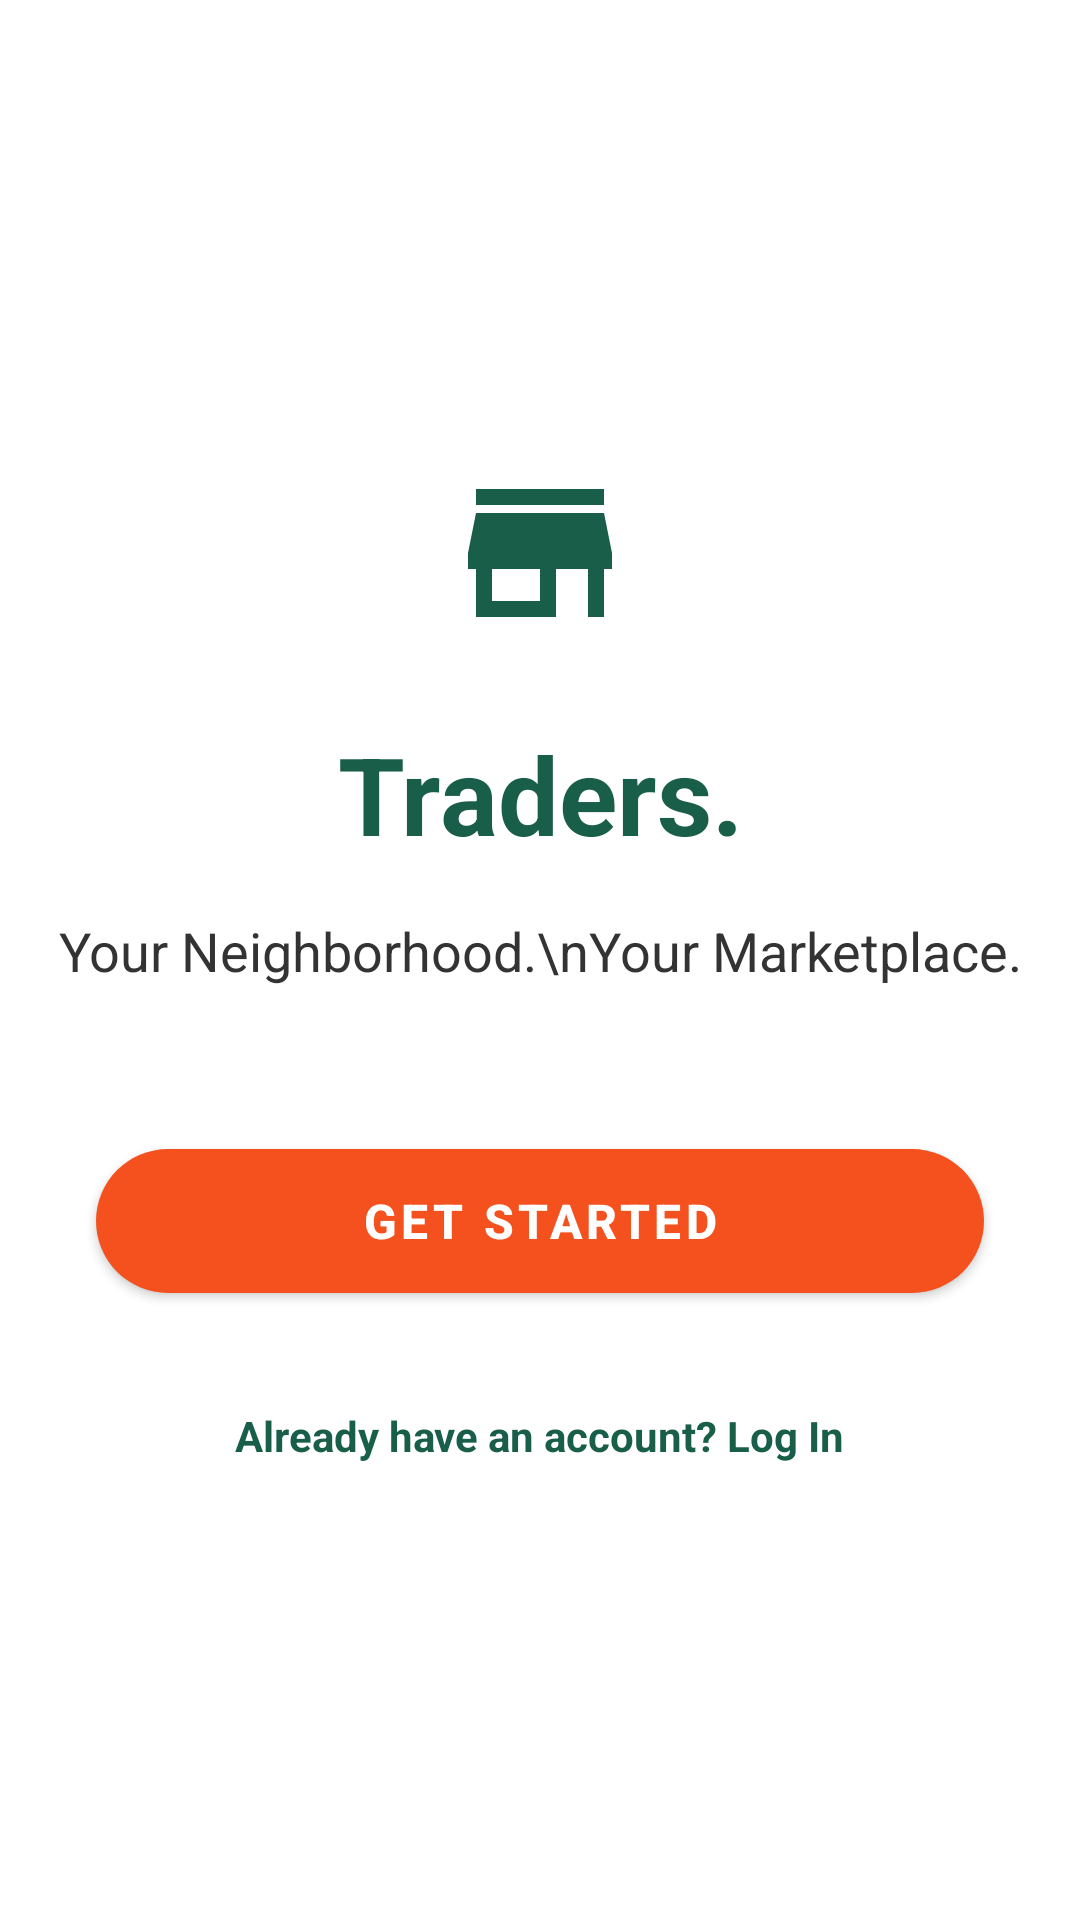

Icons on this 1080x1920 Android screen, each with the point to tap as (x=x, y=y):
store: (x=540, y=553)
